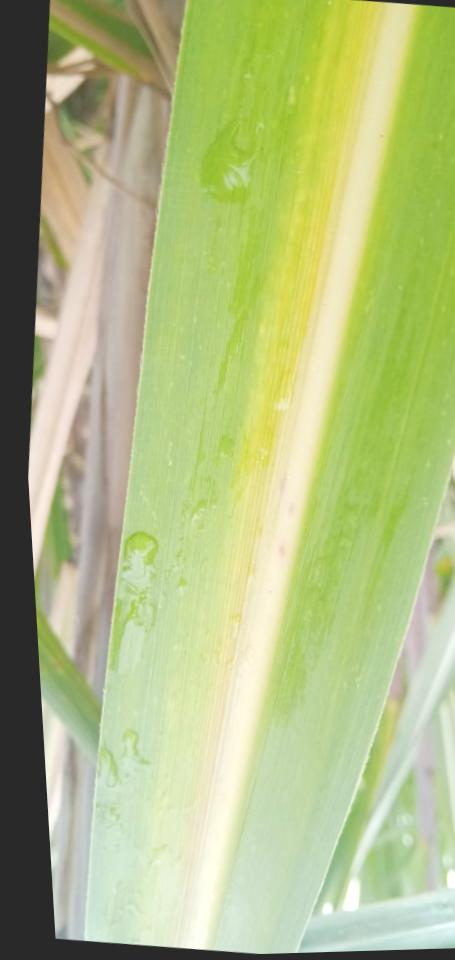Yellow: (142, 0, 384, 948)
